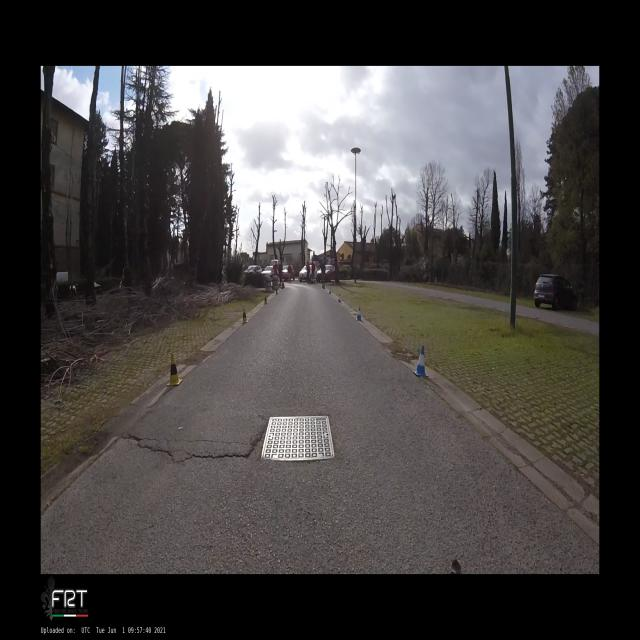blue_cone: (412, 346, 429, 376), (356, 307, 362, 321), (338, 293, 341, 303), (329, 287, 331, 294)
large_orange_cone: (323, 283, 325, 289)
yellow_cone: (166, 353, 182, 385), (242, 309, 248, 323), (264, 296, 267, 304), (276, 288, 278, 294)
